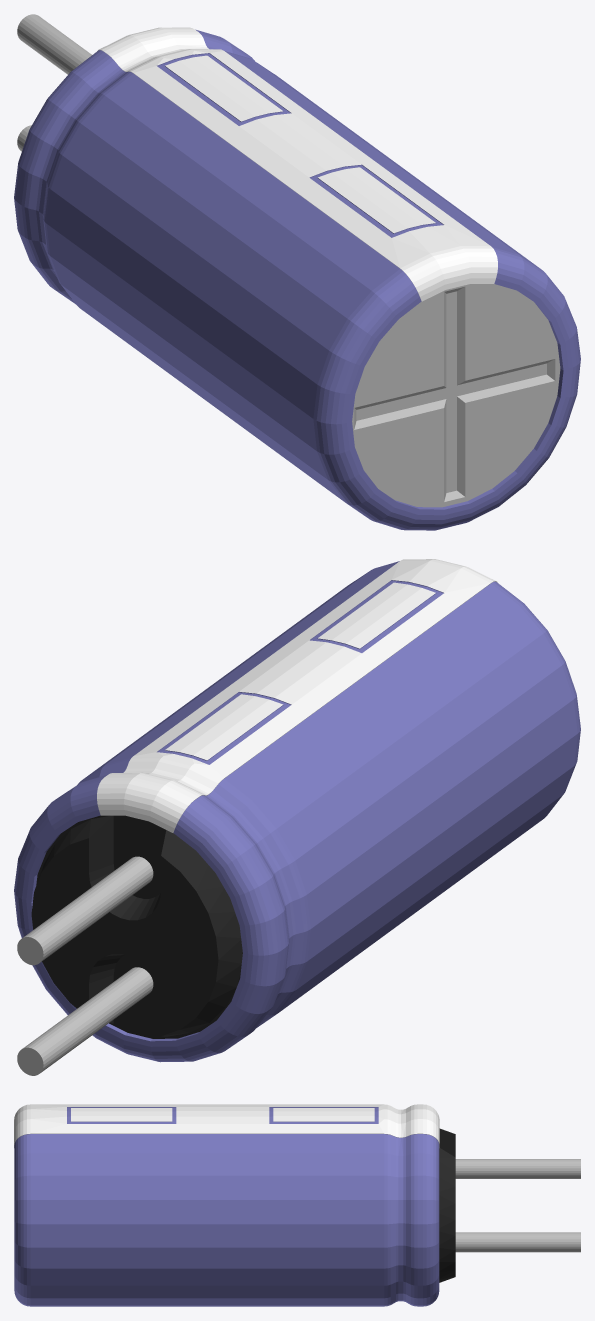
The model's file is cap_el_d5_h11_pitch2_w0.5.obj.
3 renders of one model, top to bottom at view 1: azimuth 30°, elevation 25°; view 2: azimuth 150°, elevation 25°; view 3: azimuth 270°, elevation 25°, orthographic. The views are drawn at different scales.
Visible parts, largest first — view 1: cap_el_d5_h11_pitch2_w0.5; view 2: cap_el_d5_h11_pitch2_w0.5; view 3: cap_el_d5_h11_pitch2_w0.5.
Boxes of the visible parts, x1,y1,x2,y2 form: cap_el_d5_h11_pitch2_w0.5: (14,14,580,530); cap_el_d5_h11_pitch2_w0.5: (14,559,580,1075); cap_el_d5_h11_pitch2_w0.5: (14,1104,580,1306).
Bounding box in the file's own units: 0.00448 × 0.00447 × 0.0126.
